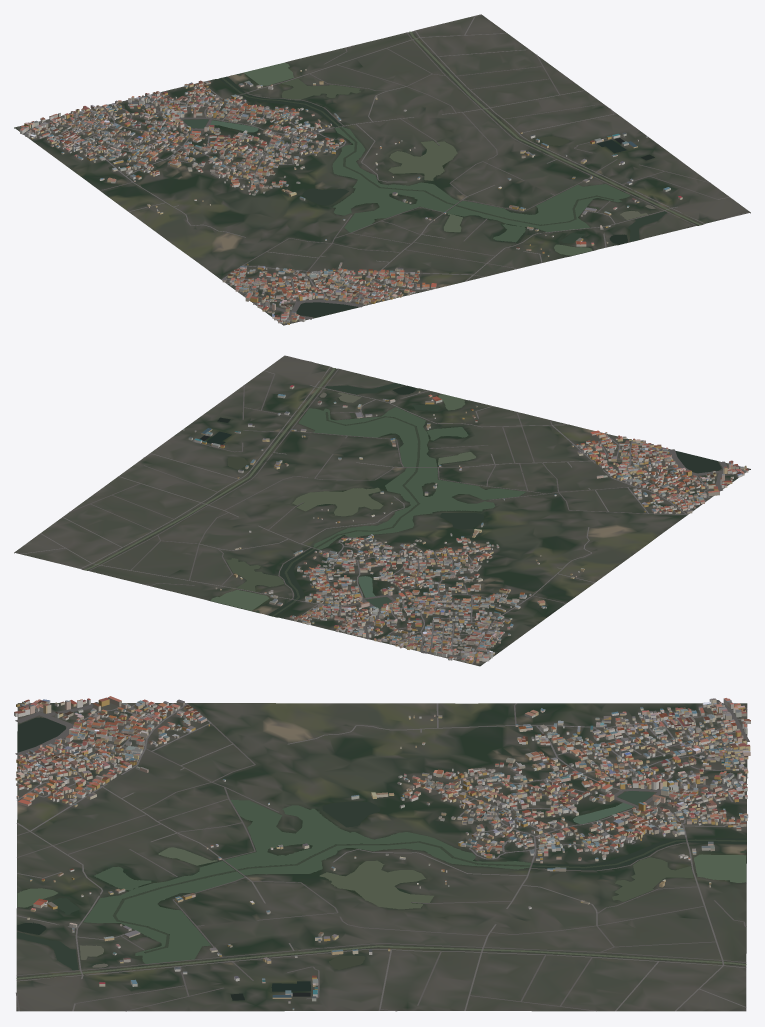
3 views of the same model, one above another, from view 1: azimuth 30°, elevation 25°; view 2: azimuth 150°, elevation 25°; view 3: azimuth 270°, elevation 25° (orthographic). The views are drawn at different scales.
Parts seen in each view (by area): view 1: ground, buildings, water, roads; view 2: ground, buildings, water, roads; view 3: ground, buildings, water, roads.
Boxes of the visible parts, bbox=[...] form: ground: bbox=[14, 14, 750, 325]; buildings: bbox=[20, 69, 682, 324]; water: bbox=[183, 31, 701, 317]; roads: bbox=[22, 15, 749, 323]; ground: bbox=[14, 355, 750, 666]; buildings: bbox=[183, 385, 748, 663]; water: bbox=[84, 368, 721, 616]; roads: bbox=[20, 356, 745, 664]; ground: bbox=[16, 703, 747, 1011]; buildings: bbox=[14, 696, 750, 1010]; water: bbox=[16, 717, 746, 1000]; roads: bbox=[15, 702, 749, 1011].
Bounding box in the file's own units: 1411 × 23.12 × 1416.
